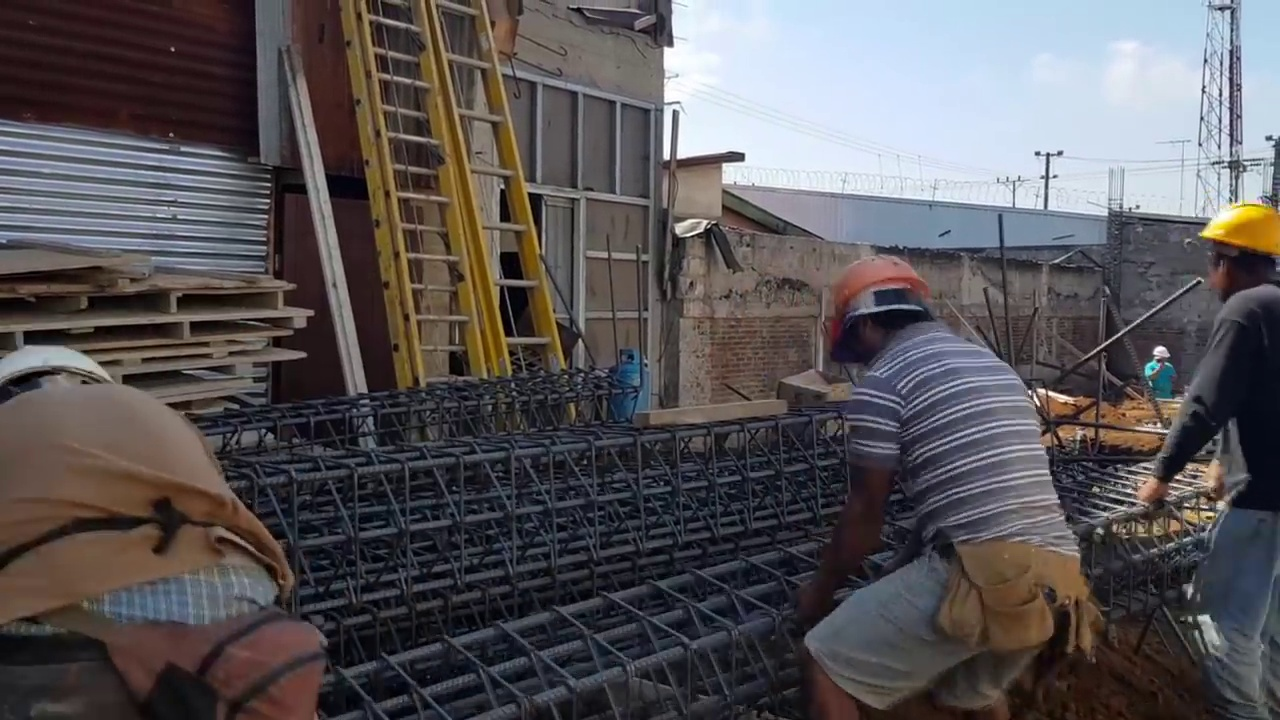helmet: (826, 259, 935, 352), (1196, 206, 1280, 260), (1152, 346, 1170, 358)
helmet-on: (822, 247, 945, 368), (1196, 205, 1280, 299), (0, 342, 118, 404), (1151, 345, 1171, 365)
person: (779, 249, 1077, 720), (0, 340, 314, 719), (1140, 204, 1280, 718), (1144, 346, 1178, 401)
